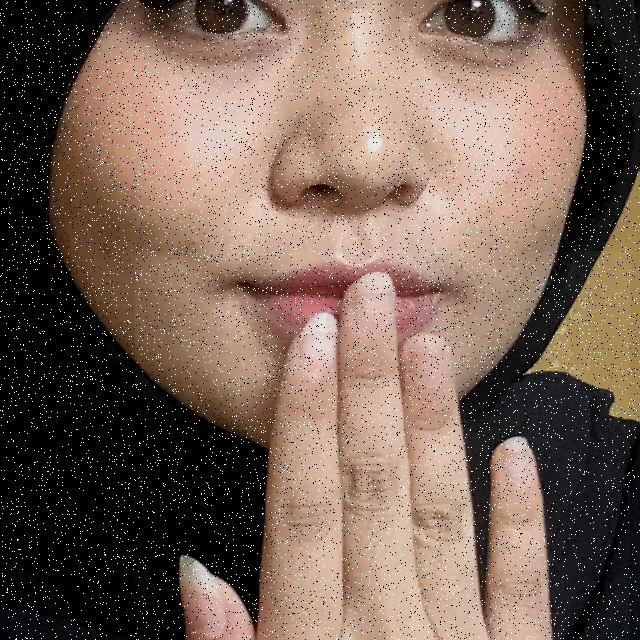ganteng: (135, 251, 630, 640)
